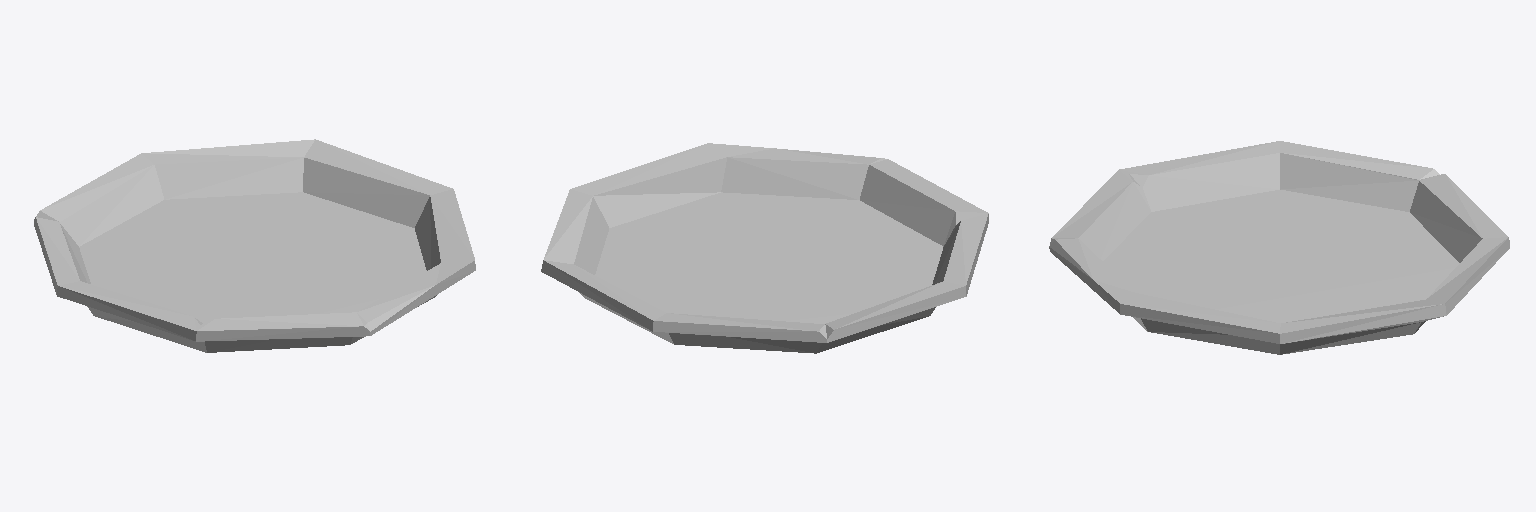
File: Plate.obj
The picture shows the model from 3 angles: view 1: azimuth 30°, elevation 25°; view 2: azimuth 150°, elevation 25°; view 3: azimuth 270°, elevation 25°; orthographic projection.
Parts seen in each view (by area): view 1: Plate; view 2: Plate; view 3: Plate.
Boxes of the visible parts, x1,y1,x2,y2 form: Plate: [34, 139, 475, 352]; Plate: [541, 143, 988, 353]; Plate: [1049, 141, 1509, 354].
Size of the model in its own units: 0.6486 by 0.0671 by 0.6517.